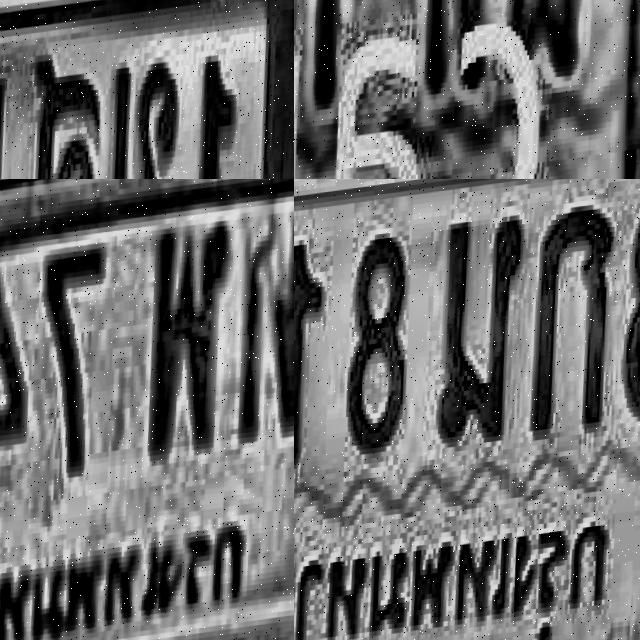license-plate: (294, 179, 640, 640), (0, 179, 294, 640), (294, 0, 640, 179), (0, 0, 294, 179)
